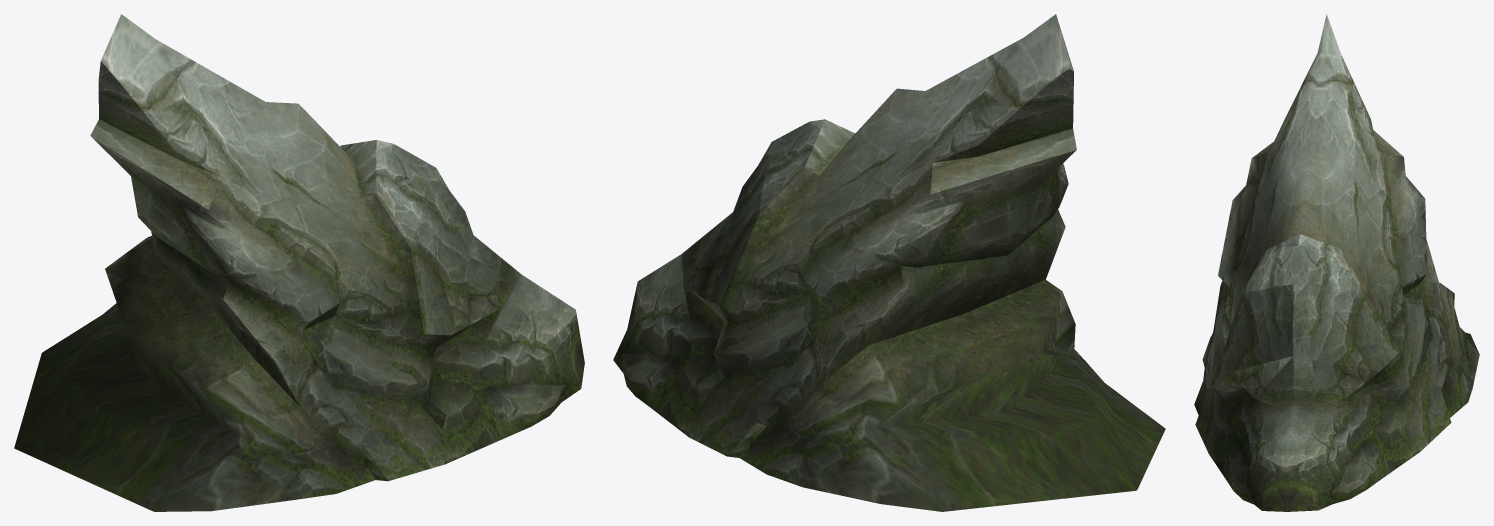
Rendered from 3014_Item_shitou_02.FBX.
The picture shows the model from 3 angles, left to right: view 1: azimuth 30°, elevation 25°; view 2: azimuth 150°, elevation 25°; view 3: azimuth 270°, elevation 25°; orthographic projection. The views are drawn at different scales.
Parts seen in each view (by area): view 1: 3014_Item_shitou_02; view 2: 3014_Item_shitou_02; view 3: 3014_Item_shitou_02.
Part boxes in pixels (box(x1,y1,x2,y2)): 3014_Item_shitou_02: box(14, 14, 584, 511); 3014_Item_shitou_02: box(613, 14, 1165, 511); 3014_Item_shitou_02: box(1194, 14, 1479, 511).
Bounding box in the file's own units: 429 × 351 × 262.
